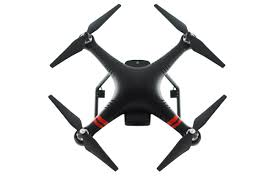Drone: (23, 5, 250, 177)
